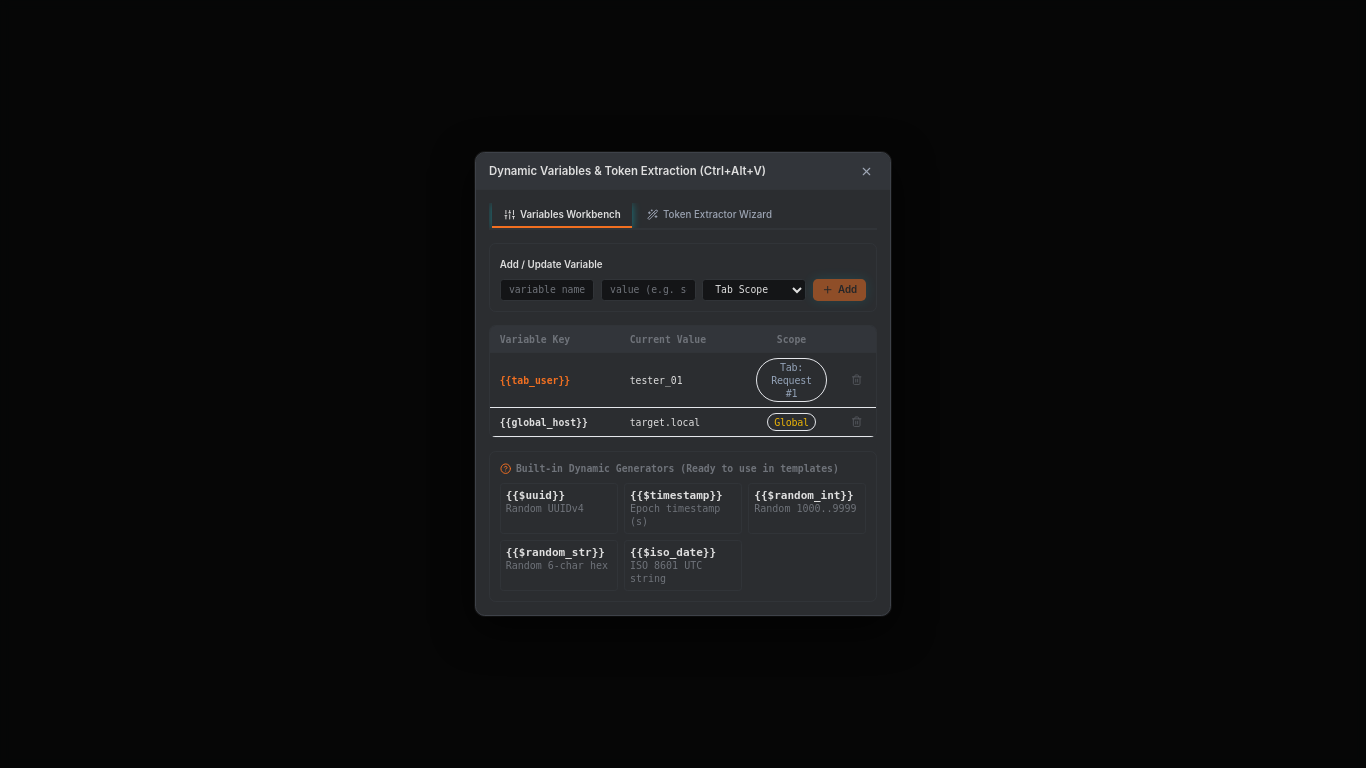
Test case: RepeaterVariablesModal Component Tests › adds a new variable to the store
The width and height of the screenshot is (1366, 768).
Type "custom_var" into the field with placeholder "variable_name (e.g. token)" at coordinates (547, 290), box [500,278,594,301]
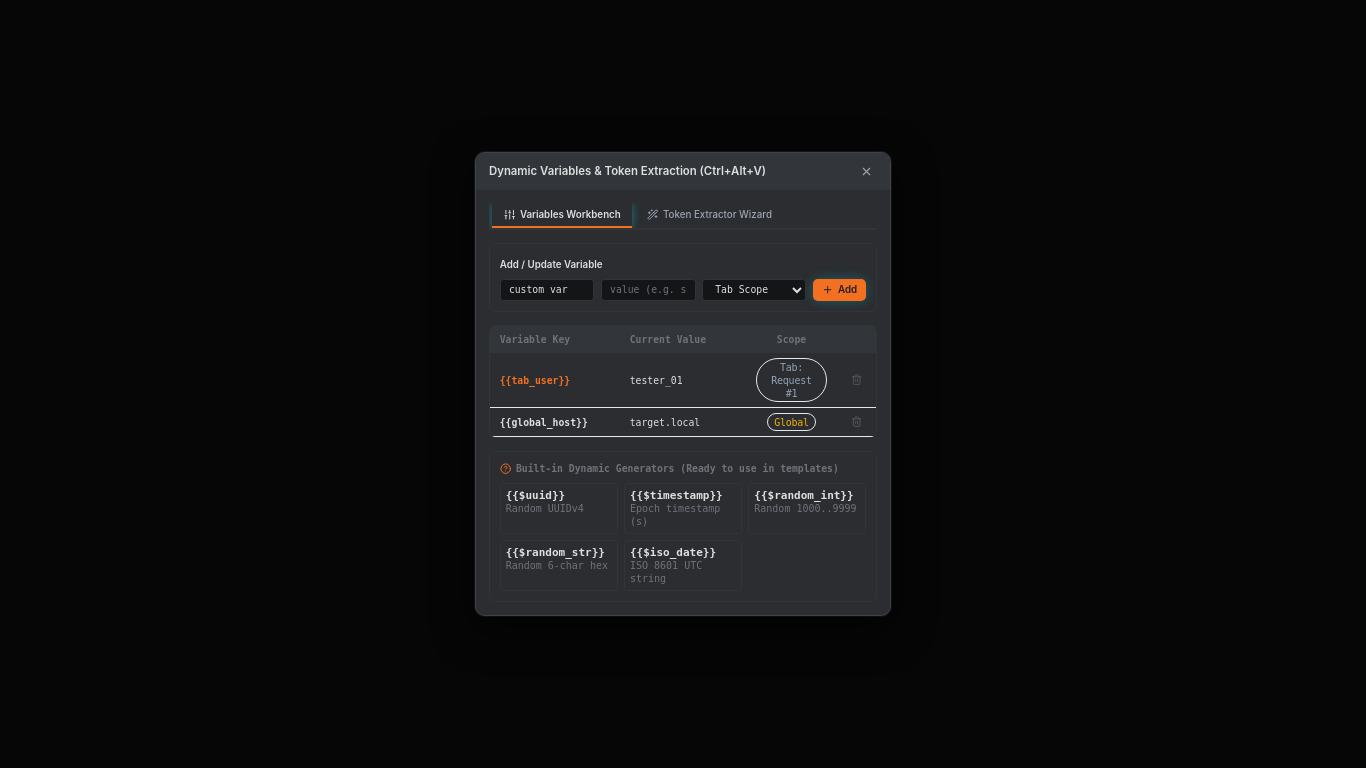
Type "custom_val" into the field with placeholder "value (e.g. secret123)" at coordinates (648, 290), box [601,278,696,301]
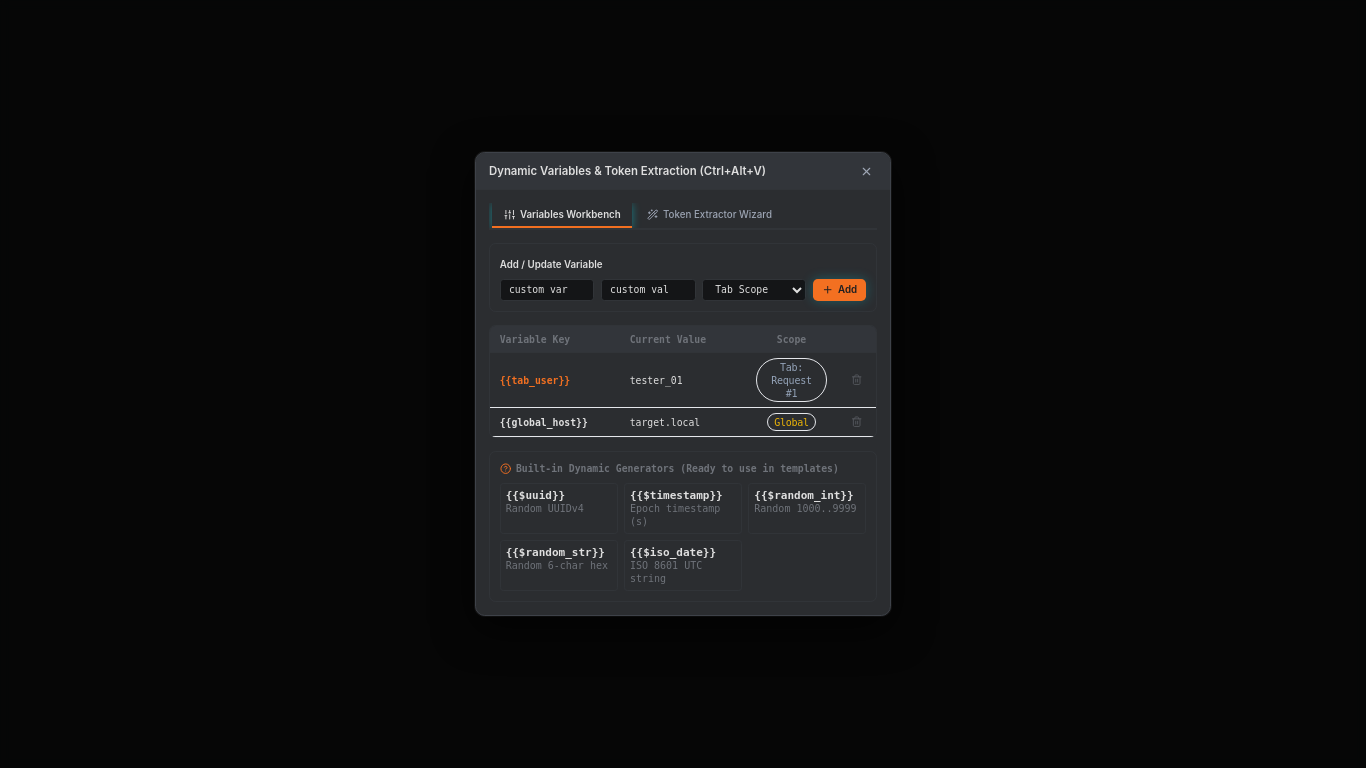
Click the button "Add" at coordinates (839, 290), box [813,278,866,301]
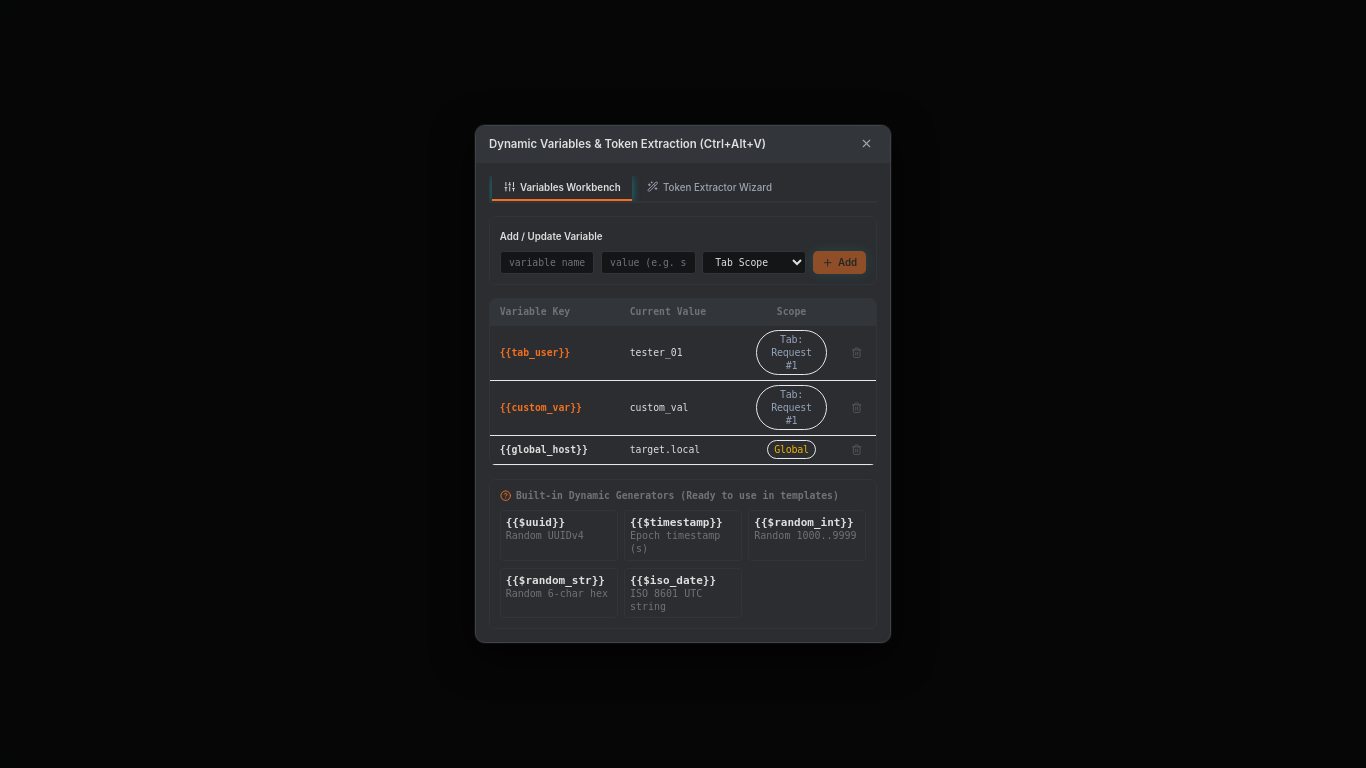
Expected: the cell "custom_val" is shown, [620,380,746,435]
